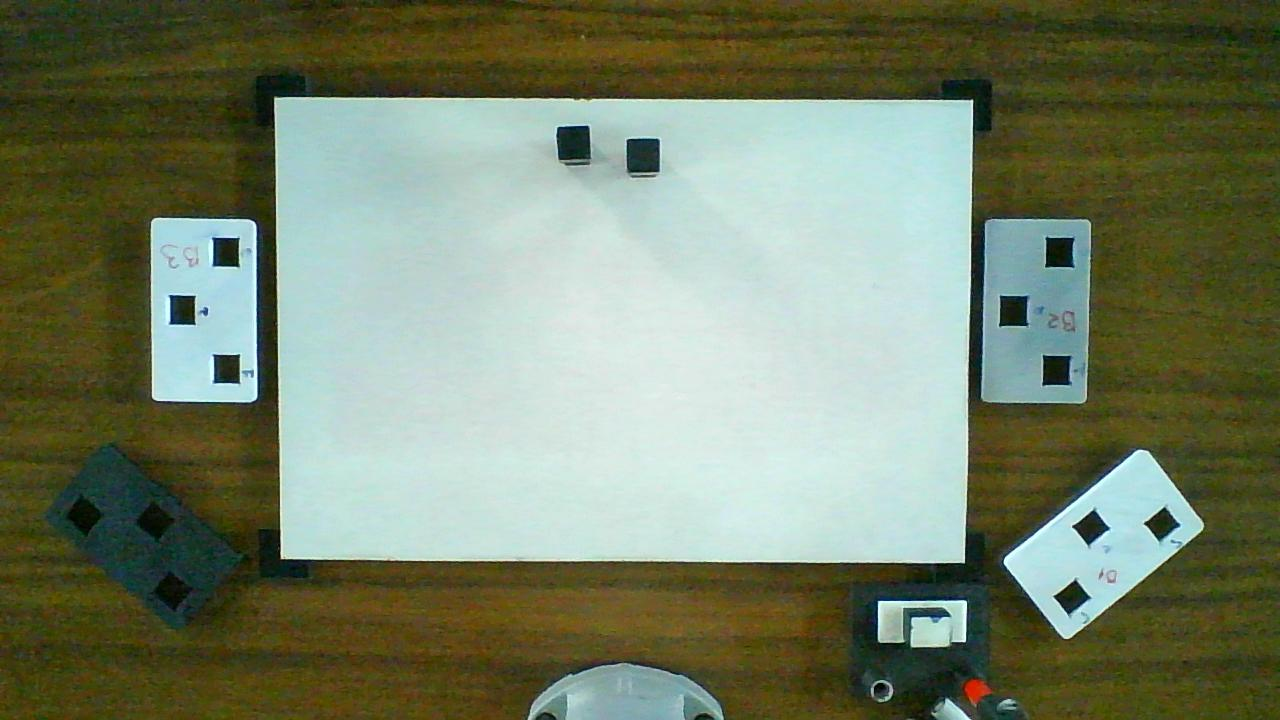peca_preta: (629, 139, 660, 170), (558, 128, 589, 159)
